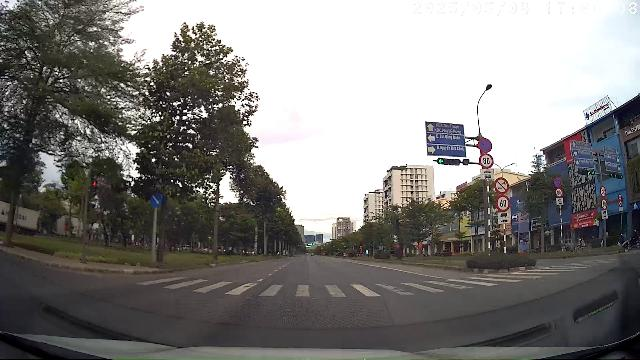127-toc-do-toi-da-60: (496, 195, 510, 211), (600, 198, 608, 209)
127-toc-do-toi-da-80: (480, 154, 494, 168), (556, 188, 562, 197)
130-cam-dung-va-do-xe: (478, 138, 492, 152), (554, 176, 562, 187)
